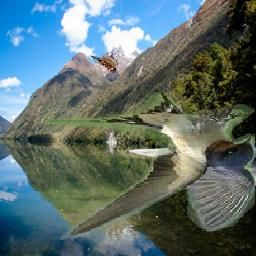Sparrow: (90, 55, 118, 74)
Swallow: (47, 92, 256, 240)
